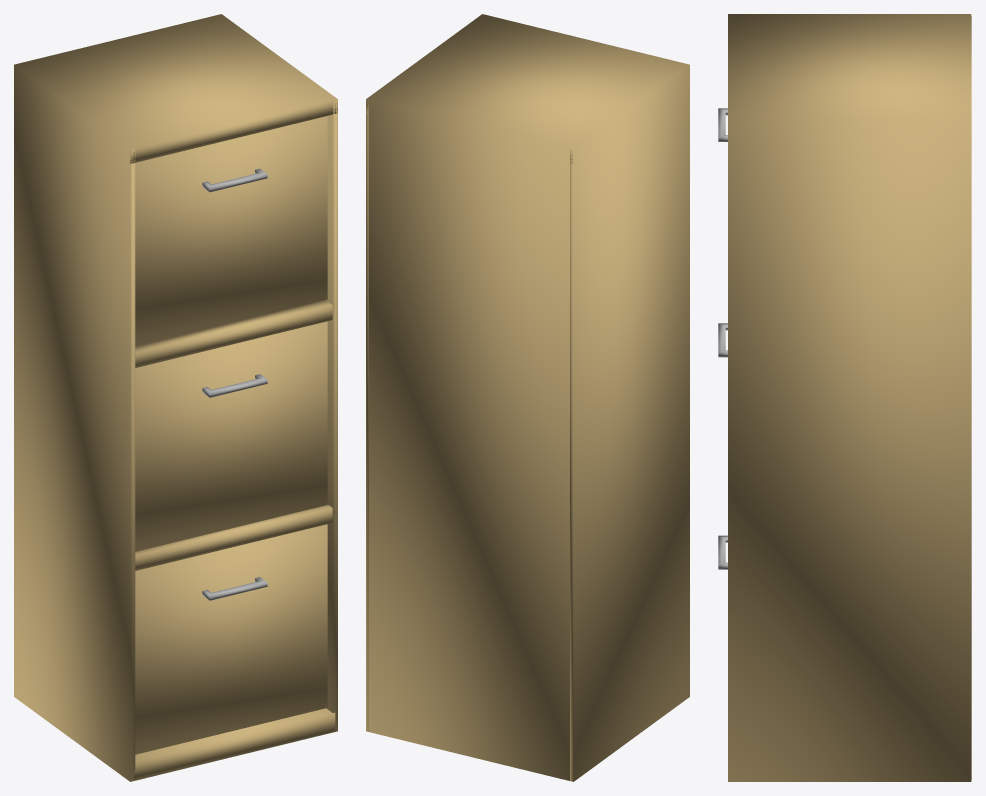
The model's file is low_poly_file_cabinet.glb.
3 views of the same model, side by side, from view 1: azimuth 30°, elevation 25°; view 2: azimuth 150°, elevation 25°; view 3: azimuth 270°, elevation 25° (orthographic). The views are drawn at different scales.
Parts seen in each view (by area): view 1: Object_5, Object_4, Object_3; view 2: Object_5; view 3: Object_5, Object_3.
Boxes of the visible parts, x1,y1,x2,y2 form: Object_5: [14, 14, 337, 781]; Object_4: [135, 300, 332, 570]; Object_3: [202, 168, 267, 600]; Object_5: [366, 14, 689, 781]; Object_5: [728, 14, 971, 781]; Object_3: [718, 108, 727, 569].
Size of the model in its own units: 10.31 by 30.01 by 10.4.
